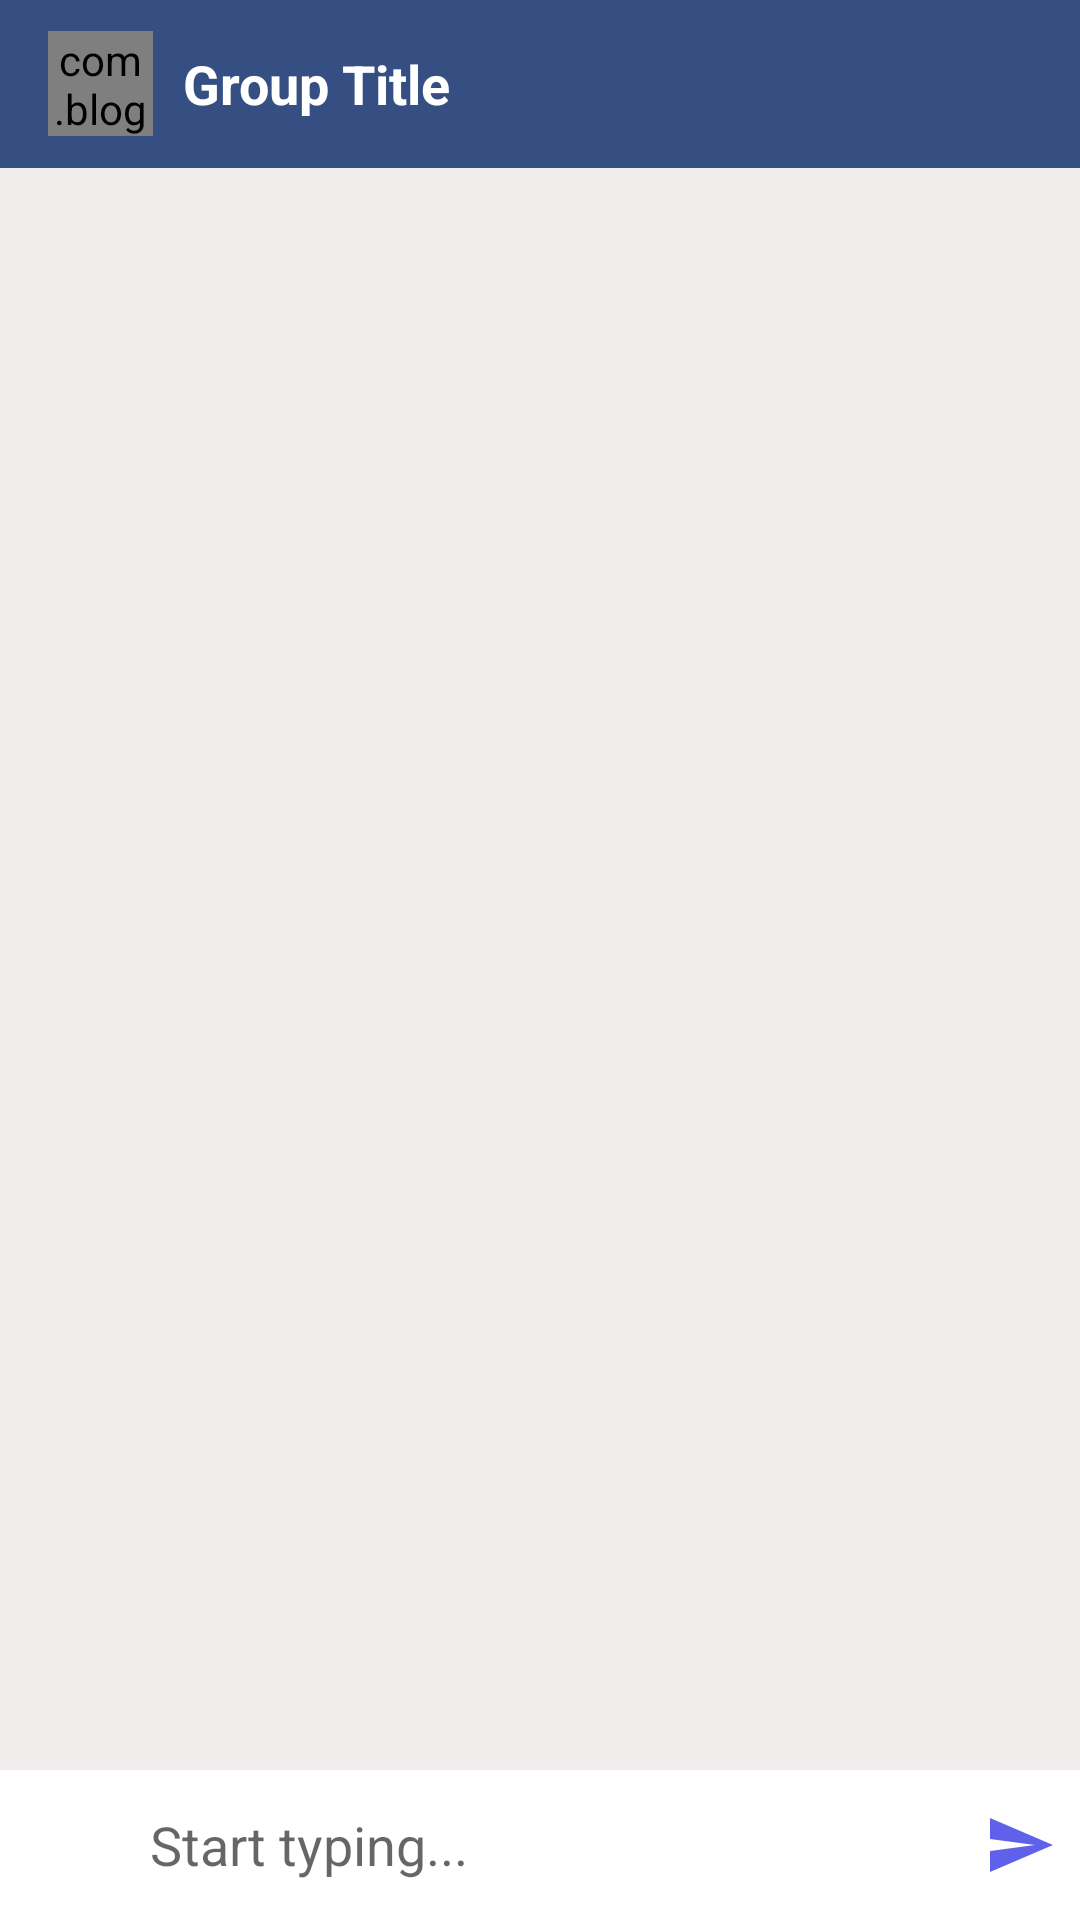

Icons on this 1080px x 1920px Android screen, each with its box as (x1, y1, x2, y2):
send: (990, 1818, 1053, 1872)
